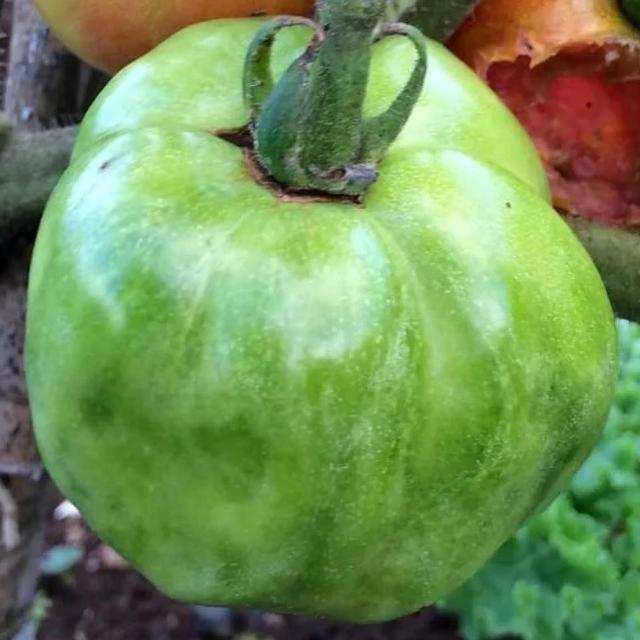Spotted wilt Virus Fruit: (16, 6, 411, 418)
